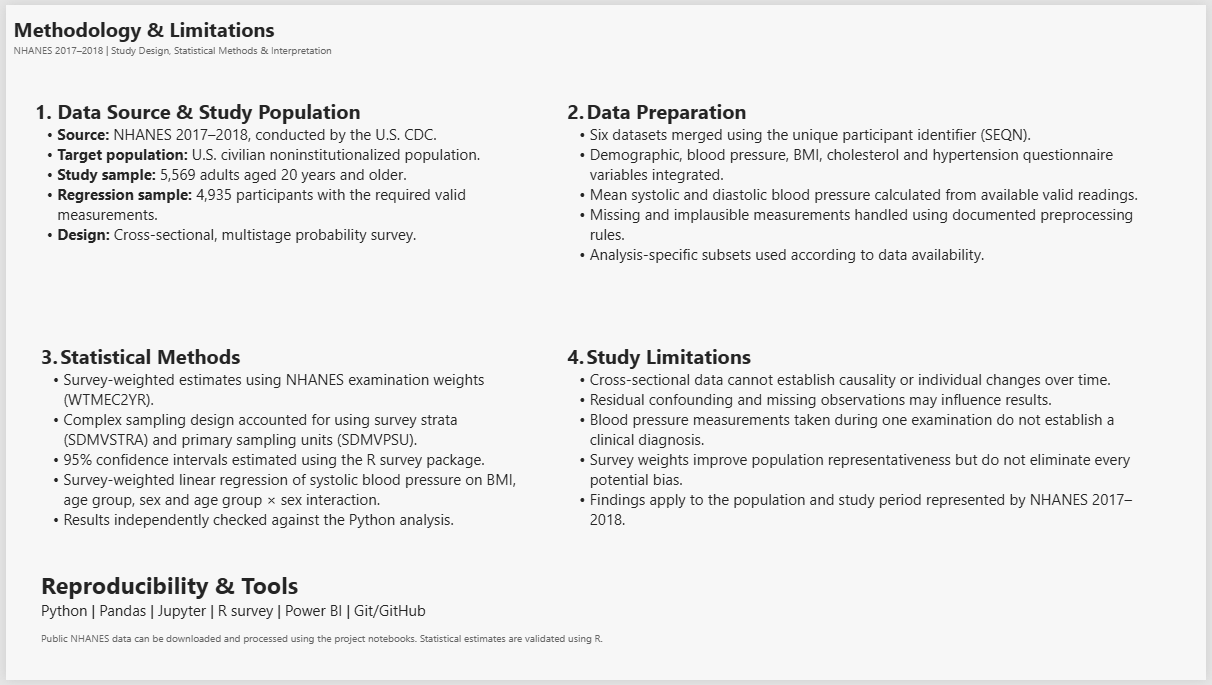

What the dashboard file says about the page in this screenshot:
{"tool":"powerbi","page":{"name":"03 - Methodology & Limitations","canvas":[1920,1080],"ordinal":2},"visuals":[{"type":"textbox","box":[12,16,688,132],"z":0},{"type":"textbox","box":[12,60,636,42],"z":1},{"type":"textbox","box":[45,147.5,770,297.5],"z":2},{"type":"textbox","box":[897.5,147.5,922.5,307.5],"z":3},{"type":"textbox","box":[55,540,770,352.5],"z":4},{"type":"textbox","box":[897.5,540,922.5,362.5],"z":5},{"type":"textbox","box":[55,902.5,987.5,177.5],"z":6}]}

Visuals, with their boxes in screenshot pixels (x1, y1, x2, y2), scaled from the page's 1920x1080 canvas onto the 1212x685 screenshot:
textbox: [8, 10, 442, 94]
textbox: [8, 38, 409, 65]
textbox: [28, 94, 514, 282]
textbox: [567, 94, 1149, 289]
textbox: [35, 342, 521, 566]
textbox: [567, 342, 1149, 572]
textbox: [35, 572, 658, 684]
